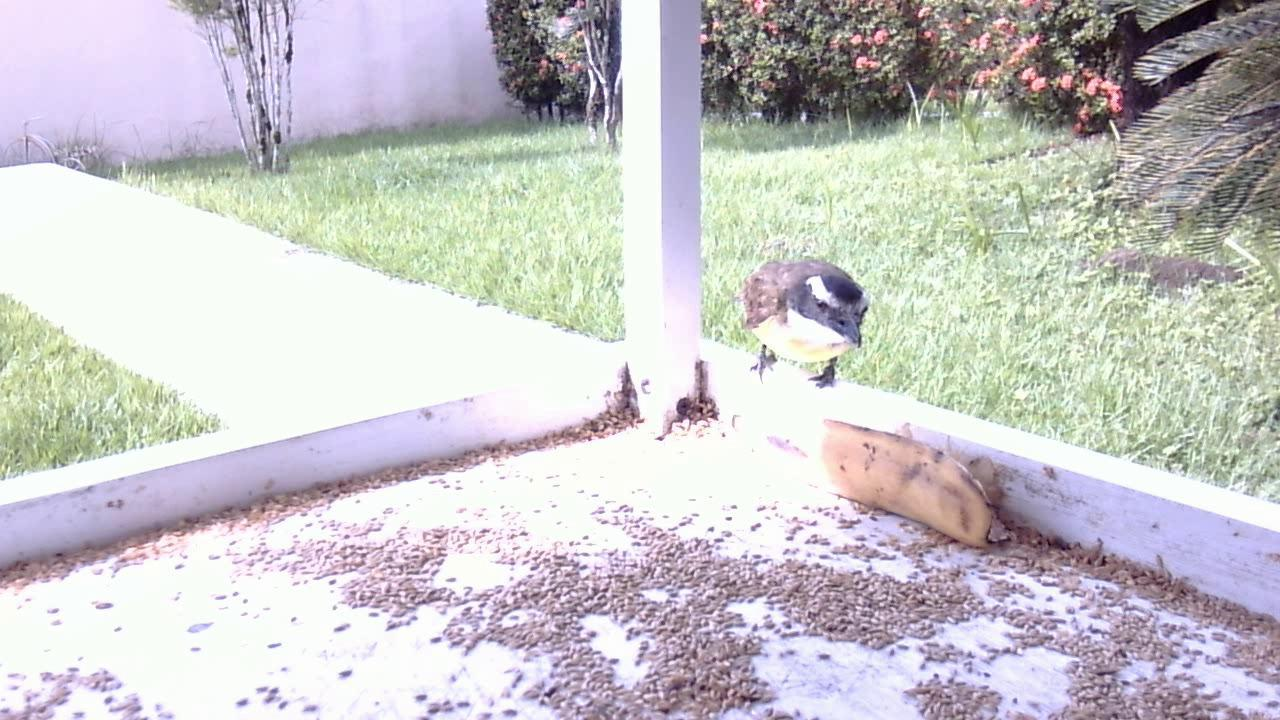bem_te_vi: (735, 252, 871, 397)
